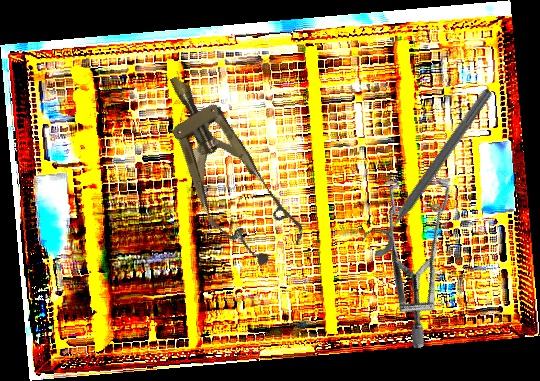Fixation Ring: (356, 78, 498, 261)
Speculum: (317, 148, 509, 352), (137, 57, 313, 278)
